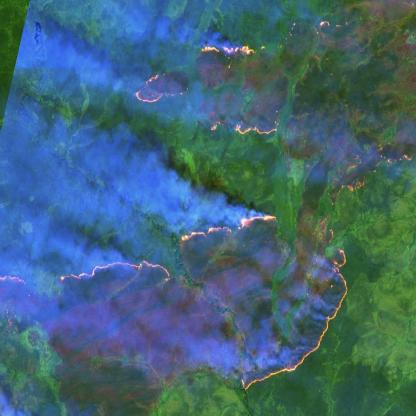fire: (0, 211, 351, 416), (126, 16, 416, 197)
